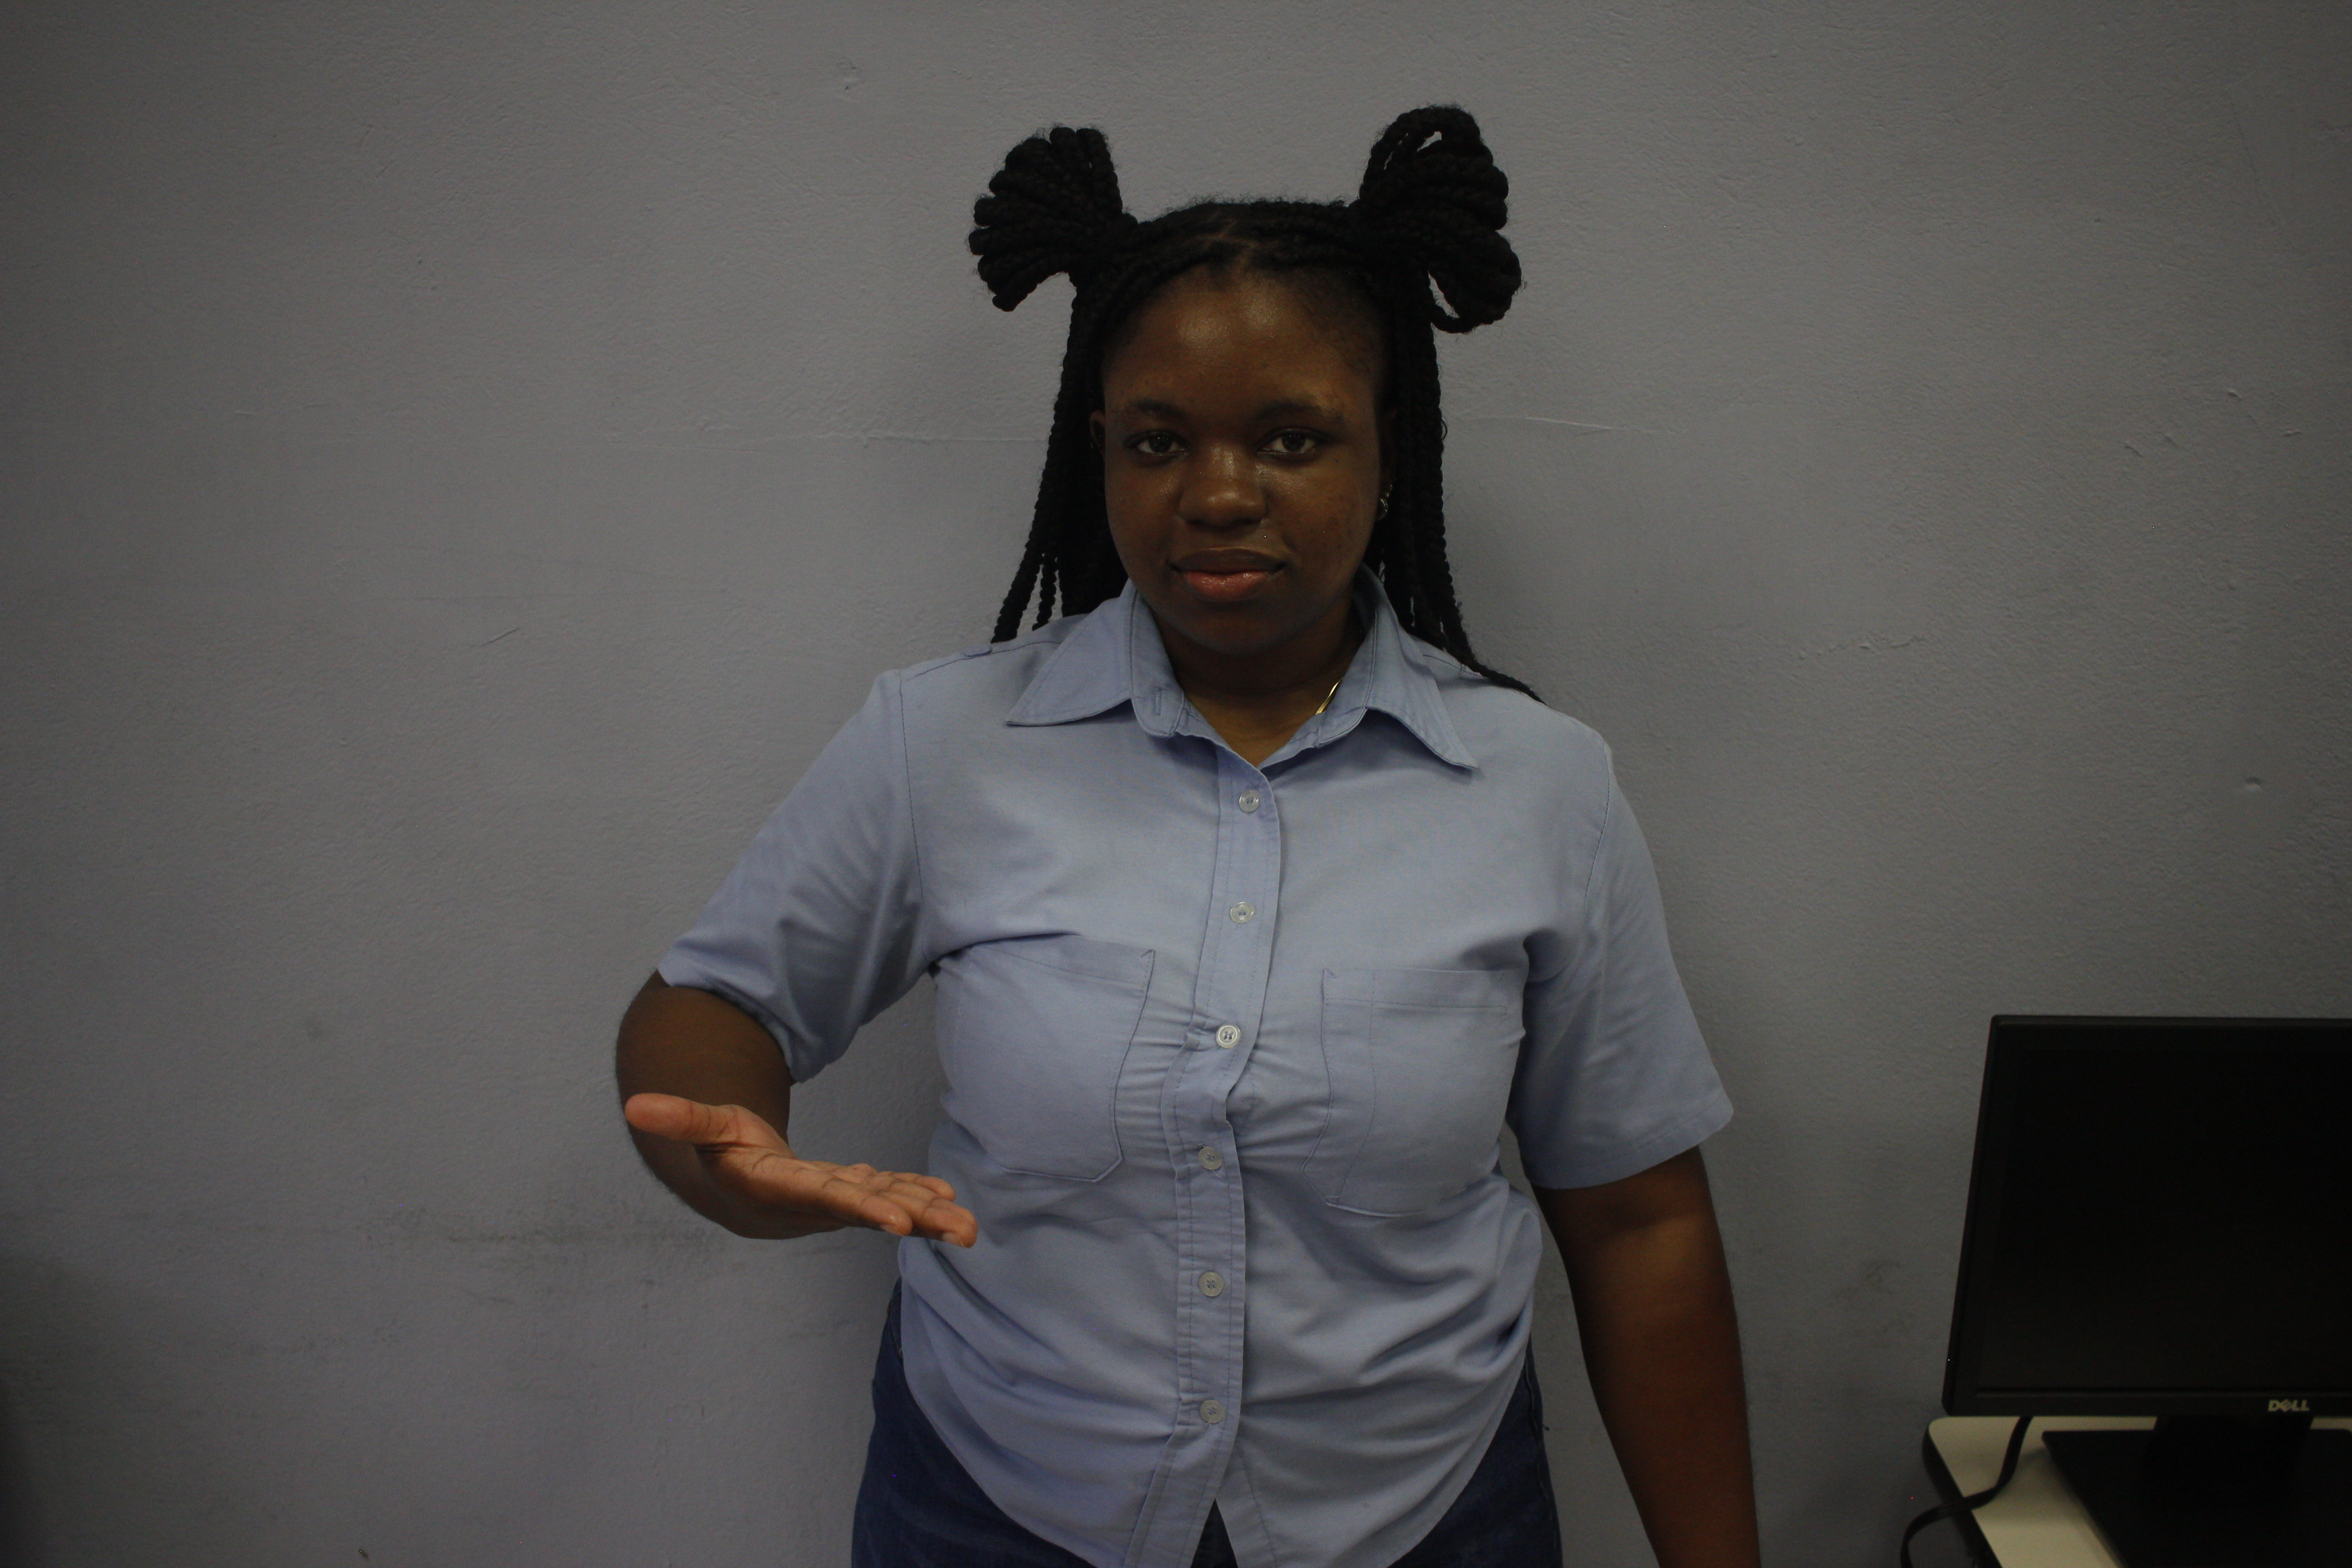you are welcome: (616, 1069, 989, 1264)
